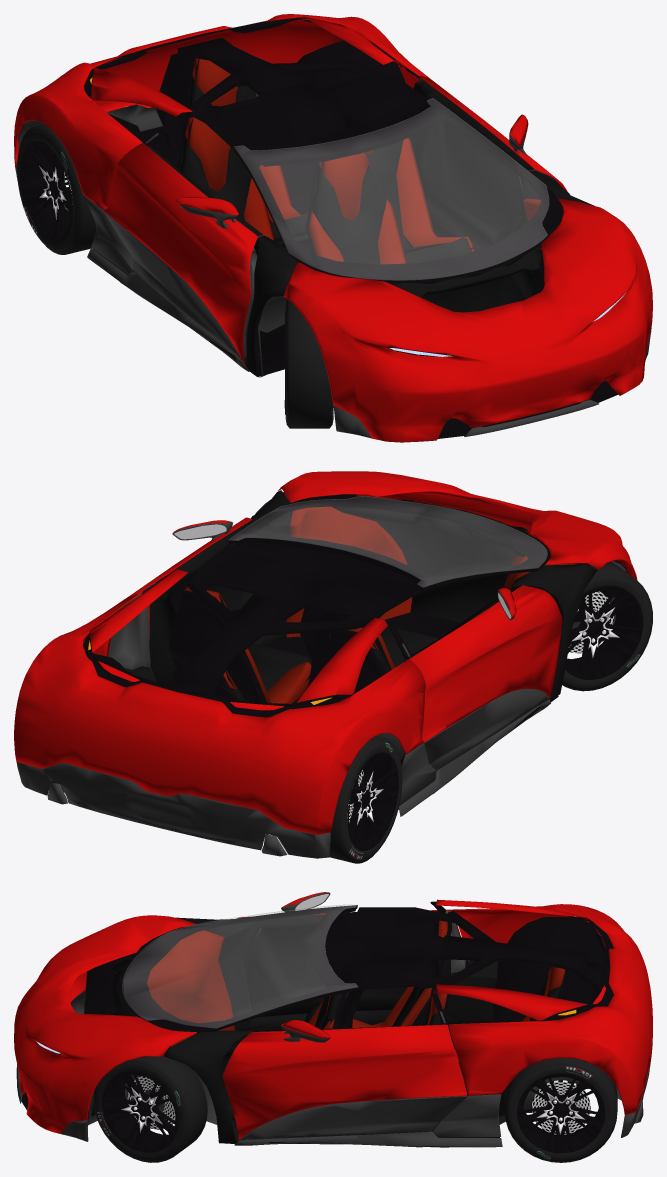
Rendered from cabrio.glb.
3 renders of one model, top to bottom at view 1: azimuth 30°, elevation 25°; view 2: azimuth 150°, elevation 25°; view 3: azimuth 270°, elevation 25°, orthographic. The views are drawn at different scales.
Parts seen in each view (by area): view 1: BodyHood, BodyWindshield, BodyRearPanelsColor1, InteriorPillar, BodyDoorRColor1, BodyWindshieldGasket, InteriorSeatsColor1, InteriorDoorL01, InteriorSeatsColor2, InteriorFloor, BodyPanelsColor2, WheelFrontR (+11 smaller); view 2: BodyRearPanelsColor1, InteriorPillar, BodyWindshield, BodyPanelsColor2, BodyDoorRColor1, BodyHood, InteriorDashMid, BodyWindshieldGasket, InteriorDoorL01, InteriorSeatsFrame1, WheelFrontRRim, InteriorMid (+12 smaller); view 3: BodyRearPanelsColor1, BodyWindshield, BodyHood, BodyDoorLColor1, InteriorPillar, InteriorMid, InteriorFloor, InteriorDoorR01, BodyWindshieldGasket, BodyPanelsColor2, BodyDoorLColor2, InteriorDashSides (+14 smaller).
Boxes of the visible parts, x1,y1,x2,y2 form: BodyHood: [284, 198, 652, 442]; BodyWindshield: [234, 98, 548, 280]; BodyRearPanelsColor1: [14, 14, 434, 210]; InteriorPillar: [155, 37, 434, 168]; BodyDoorRColor1: [104, 143, 257, 363]; BodyWindshieldGasket: [234, 99, 563, 283]; InteriorSeatsColor1: [185, 58, 474, 264]; InteriorDoorL01: [408, 78, 557, 248]; InteriorSeatsColor2: [179, 77, 471, 274]; InteriorFloor: [18, 39, 645, 438]; BodyPanelsColor2: [15, 93, 651, 438]; WheelFrontR: [285, 299, 333, 428]; BodyRearPanelsColor1: [14, 569, 425, 834]; InteriorPillar: [169, 542, 421, 701]; BodyWindshield: [229, 496, 547, 587]; BodyPanelsColor2: [15, 699, 550, 858]; BodyDoorRColor1: [409, 585, 562, 742]; BodyHood: [278, 471, 637, 579]; InteriorDashMid: [331, 499, 528, 622]; BodyWindshieldGasket: [229, 495, 550, 590]; InteriorDoorL01: [108, 519, 257, 689]; InteriorSeatsFrame1: [169, 591, 383, 712]; WheelFrontRRim: [565, 585, 643, 679]; InteriorMid: [125, 490, 597, 808]; BodyRearPanelsColor1: [436, 899, 652, 1115]; BodyWindshield: [122, 904, 357, 1028]; BodyHood: [14, 915, 196, 1133]; BodyDoorLColor1: [222, 1024, 467, 1139]; InteriorPillar: [325, 907, 613, 1028]; InteriorMid: [164, 917, 499, 1144]; InteriorFloor: [19, 916, 613, 1138]; InteriorDoorR01: [240, 910, 465, 1016]; BodyWindshieldGasket: [117, 905, 357, 1033]; BodyPanelsColor2: [16, 990, 651, 1147]; BodyDoorLColor2: [240, 1096, 467, 1140]; InteriorDashSides: [147, 930, 234, 1124].
Size of the model in its own units: 2.54 by 1.14 by 4.36.
Materials: 18 (4 with a texture image).
